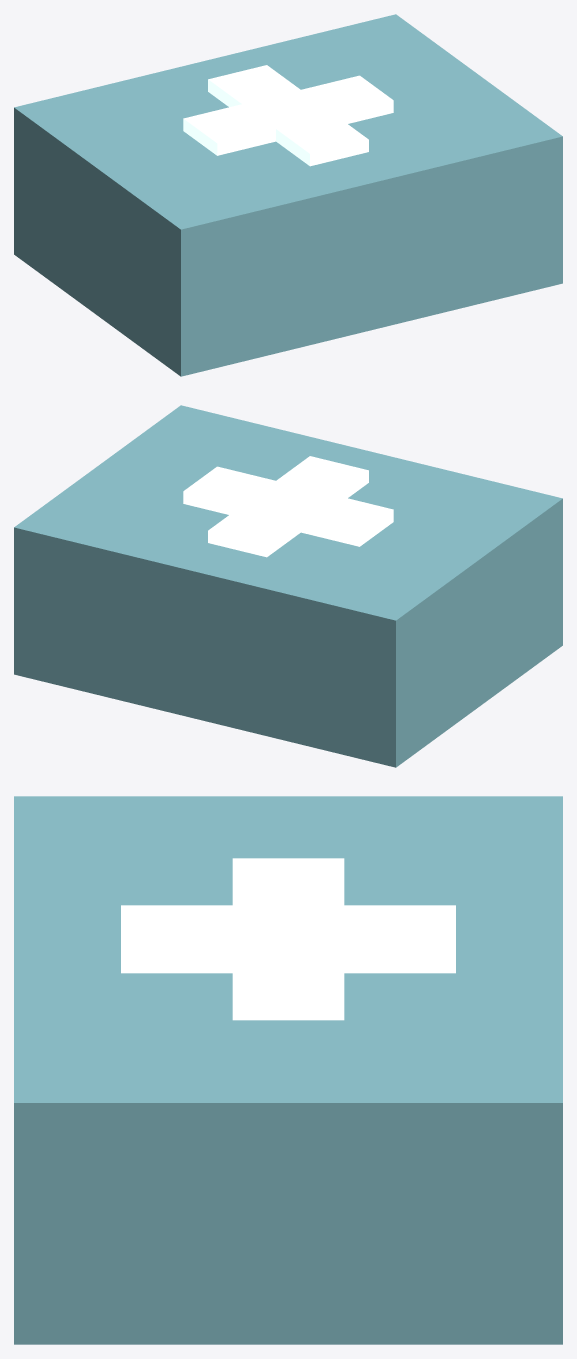
File: HealPack.fbx
The picture shows the model from 3 angles, top to bottom: view 1: azimuth 30°, elevation 25°; view 2: azimuth 150°, elevation 25°; view 3: azimuth 270°, elevation 25°; orthographic projection. The views are drawn at different scales.
Visible parts, largest first — view 1: HealPack; view 2: HealPack; view 3: HealPack.
Boxes of the visible parts, x1=… form: HealPack: x1=14, y1=14, x2=562, y2=376; HealPack: x1=14, y1=405, x2=562, y2=767; HealPack: x1=14, y1=796, x2=562, y2=1344.
Bounding box in the file's own units: 0.8532 × 0.6459 × 0.3406.
